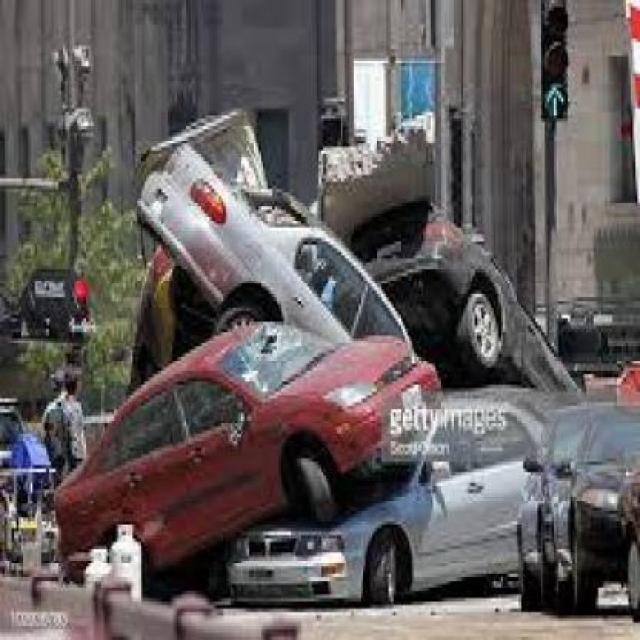accident: (71, 85, 640, 607)
